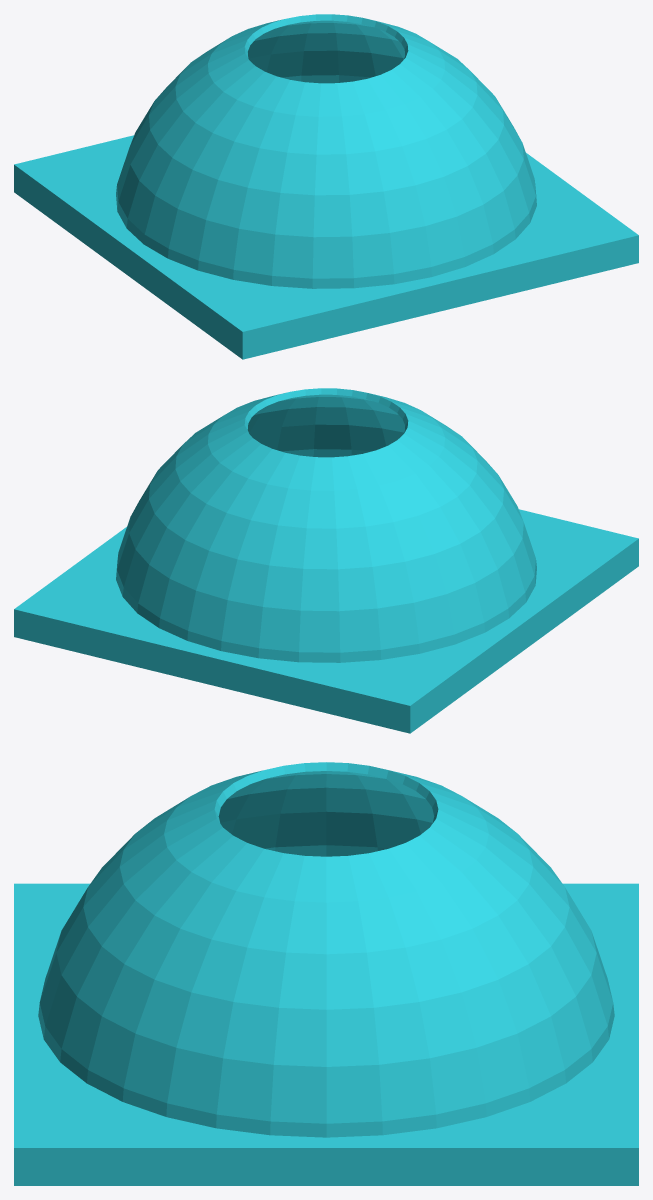
The model's file is roof.fbx.
3 renders of one model, top to bottom at view 1: azimuth 30°, elevation 25°; view 2: azimuth 150°, elevation 25°; view 3: azimuth 270°, elevation 25°, orthographic. The views are drawn at different scales.
Visible parts, largest first — view 1: Roof; view 2: Roof; view 3: Roof.
Part boxes in pixels (<box>): Roof: <box>14,14,638,359</box>; Roof: <box>14,388,638,733</box>; Roof: <box>14,762,638,1185</box>.
Size of the model in its own units: 495 by 495 by 215.
